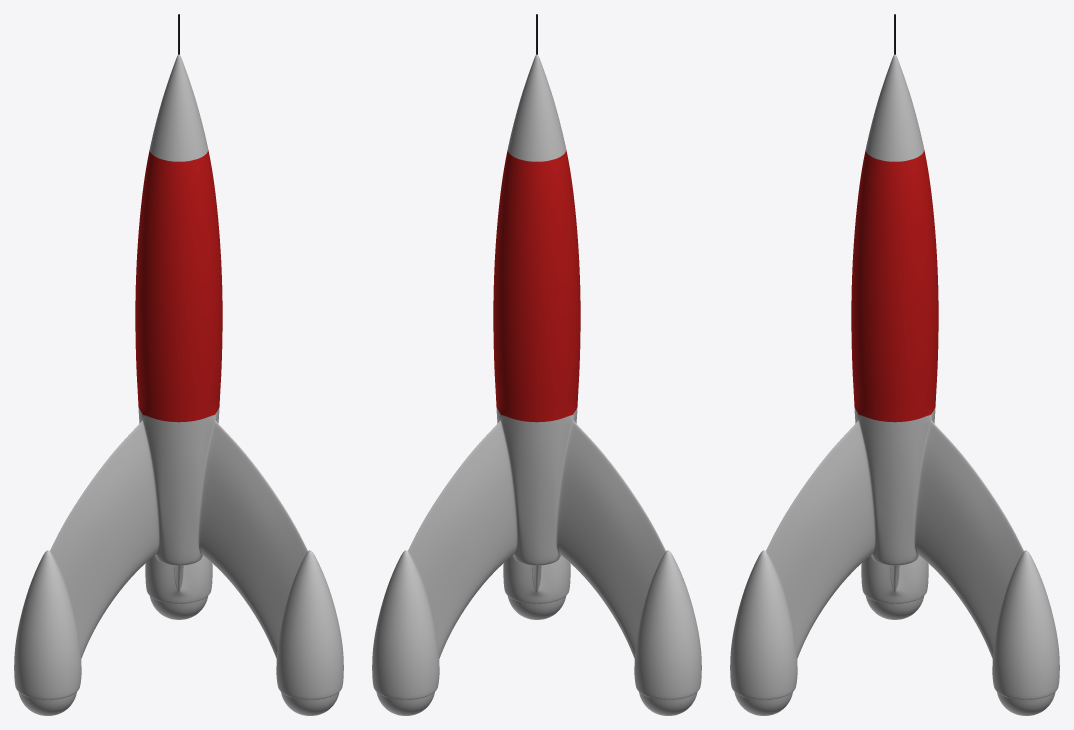
Rendered from tintin_rocket_tri.obj.
3 views of the same model, side by side, from view 1: azimuth 30°, elevation 25°; view 2: azimuth 150°, elevation 25°; view 3: azimuth 270°, elevation 25° (orthographic).
Bounding box in the file's own units: 11.42 × 28.54 × 12.78.
